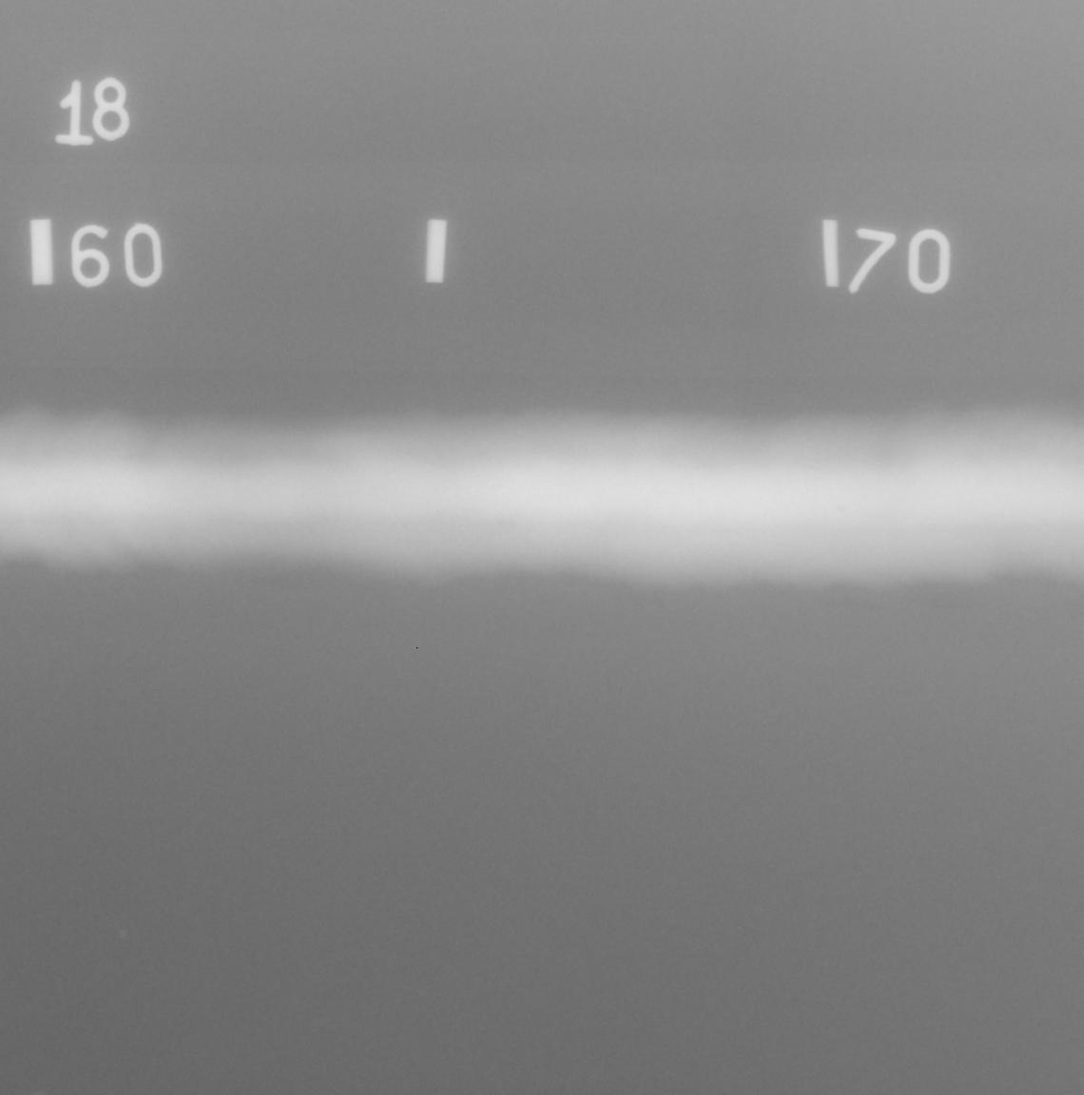Inclusion: (498, 520, 505, 527), (510, 521, 515, 527)
Pore/Porosity: (837, 505, 845, 512), (989, 434, 994, 438)
